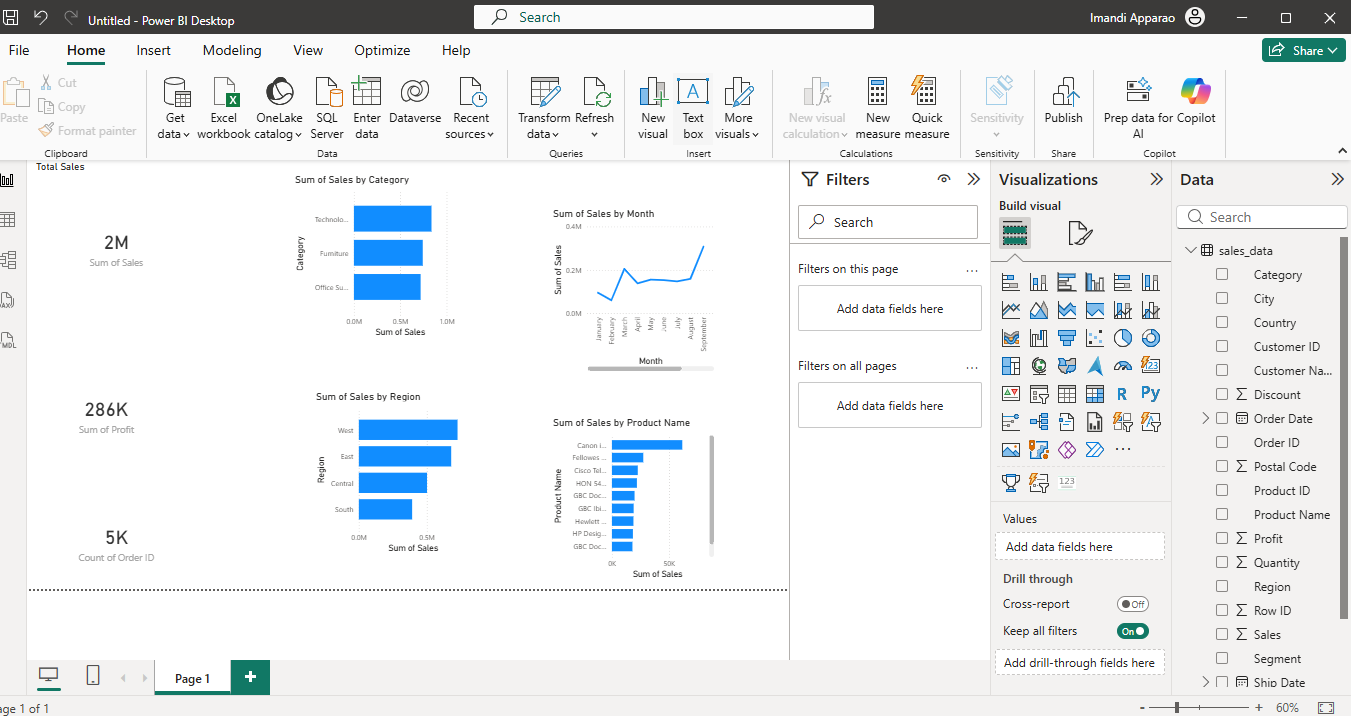

This screenshot's page, from the dashboard's own definition file:
{"tool":"powerbi","page":{"name":"Page 1","canvas":[1280,720],"ordinal":0},"visuals":[{"type":"advanceCardE03760C5AB684758B56AA29F9E6C257B","title":"Total Sales","fields":{"mainMeasure":["Sum(sales_data.Sales)"]},"box":[10.1,0,393.1,280.5],"z":0},{"type":"advanceCardE03760C5AB684758B56AA29F9E6C257B","fields":{"mainMeasure":["Sum(sales_data.Profit)"]},"box":[332.6,0,502.3,257],"z":1000},{"type":"advanceCardE03760C5AB684758B56AA29F9E6C257B","fields":{"mainMeasure":["Count(sales_data.Order ID)"]},"box":[816.4,0,463.6,233.5],"z":2000},{"type":"clusteredBarChart","fields":{"Category":["sales_data.Category"],"Y":["Sum(sales_data.Sales)"]},"box":[25.2,314.1,278.8,280.5],"z":3000},{"type":"clusteredBarChart","fields":{"Category":["sales_data.Region"],"Y":["Sum(sales_data.Sales)"]},"box":[361.2,314.1,278.8,278.8],"z":4000},{"type":"lineChart","fields":{"Category":["sales_data.Order Date.Variation.Date Hierarchy.Year","sales_data.Order Date.Variation.Date Hierarchy.Quarter","sales_data.Order Date.Variation.Date Hierarchy.Month","sales_data.Order Date.Variation.Date Hierarchy.Day"],"Y":["Sum(sales_data.Sales)"]},"box":[660.2,314.1,280.5,280.5],"z":6000},{"type":"clusteredBarChart","fields":{"Category":["sales_data.Product Name"],"Y":["Sum(sales_data.Sales)"]},"box":[976,315.8,280.5,278.8],"z":7000}]}

Visuals, with their boxes on the page's 1280x720 design canvas (x1, y1, x2, y2). These are canvas units, not pixel positions in the 1351x716 screenshot, which may show the page scaled, cropped or inside an application window:
"Total Sales" advanceCardE03760C5AB684758B56AA29F9E6C257B: pyautogui.locateOnScreen(10, 0, 403, 280)
advanceCardE03760C5AB684758B56AA29F9E6C257B - Sum(sales_data.Profit): pyautogui.locateOnScreen(333, 0, 835, 257)
advanceCardE03760C5AB684758B56AA29F9E6C257B - Count(sales_data.Order ID): pyautogui.locateOnScreen(816, 0, 1280, 234)
clusteredBarChart - sales_data.Category x Sum(sales_data.Sales): pyautogui.locateOnScreen(25, 314, 304, 595)
clusteredBarChart - sales_data.Region x Sum(sales_data.Sales): pyautogui.locateOnScreen(361, 314, 640, 593)
lineChart - sales_data.Order Date.Variation.Date Hierarchy.Year x sales_data.Order Date.Variation.Date Hierarchy.Quarter: pyautogui.locateOnScreen(660, 314, 941, 595)
clusteredBarChart - sales_data.Product Name x Sum(sales_data.Sales): pyautogui.locateOnScreen(976, 316, 1256, 595)
